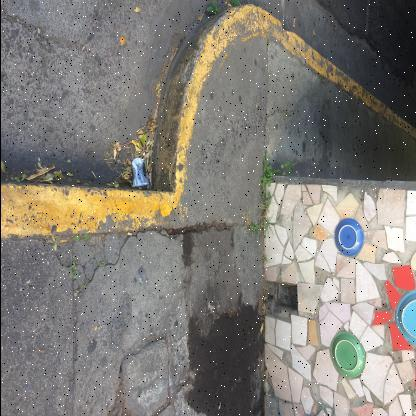cardboard: (130, 158, 148, 188)
